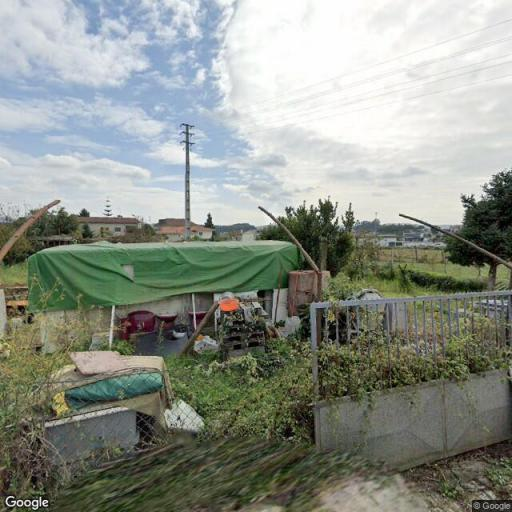mono_9: (176, 121, 198, 242)
